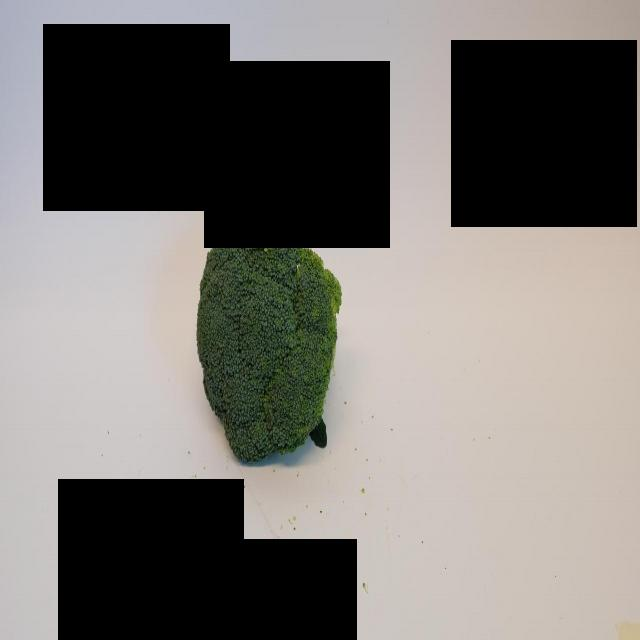broccoli: (192, 192, 346, 471)
